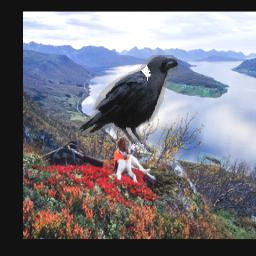Crow: (78, 55, 179, 155)
